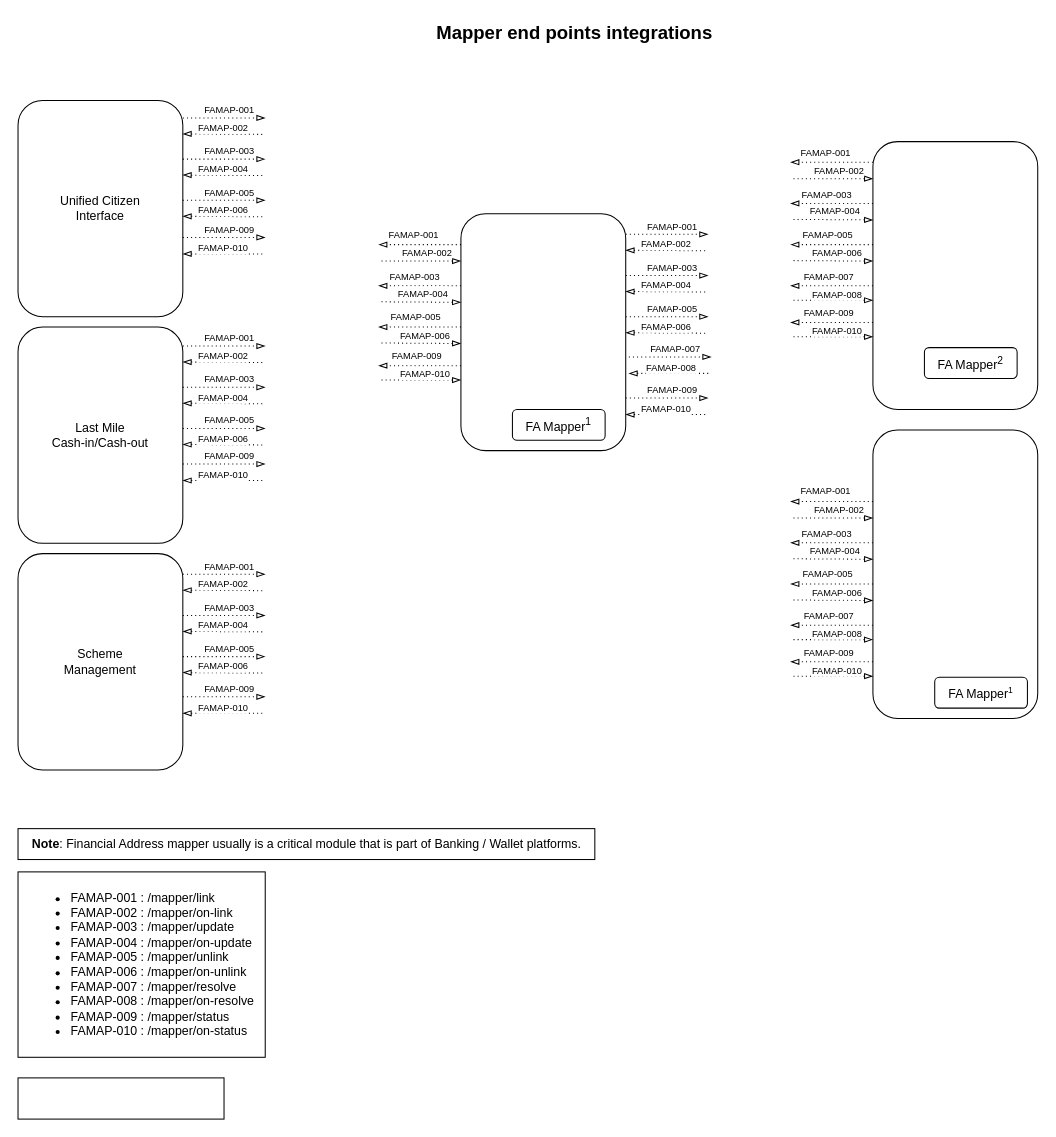
The diagram is 1056 pixels wide and 1137 high, and some of its shapes have lost their labels. The shapes that lost their labels are listed below. From the top down, each one's box as (x1, y1, x2, y2) in pixels, then its label:
(872, 141, 1038, 409): Payment & Settlement Switch
(460, 213, 626, 451): Payee Bank (FSP1)
(872, 429, 1038, 718): Voucher System
(17, 1077, 224, 1119): 1 ID to store of value account info 2 ID to financial institution info
